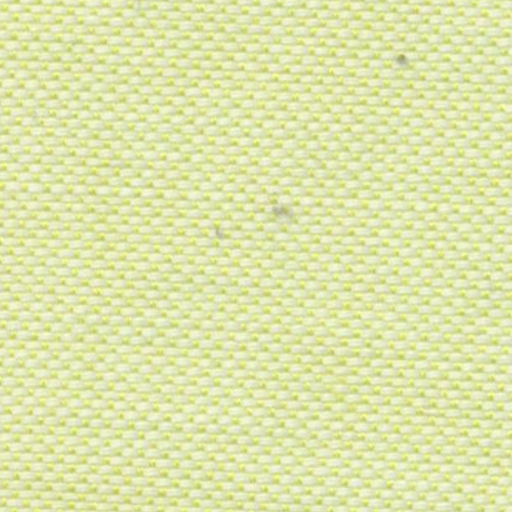WuZi: (206, 186, 295, 258), (388, 44, 416, 78)
